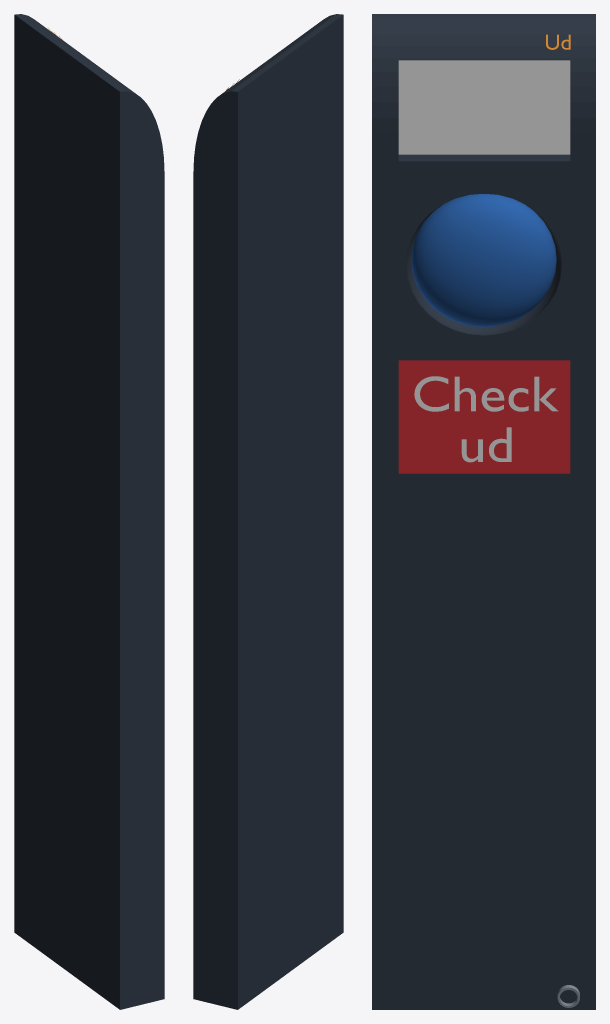
File: RejsekortStanderUD.fbx
The picture shows the model from 3 angles, left to right: view 1: azimuth 30°, elevation 25°; view 2: azimuth 150°, elevation 25°; view 3: azimuth 270°, elevation 25°; orthographic projection. The views are drawn at different scales.
Visible parts, largest first — view 1: Cube; view 2: Cube; view 3: Cube, Plane.001, Plane, Sphere, Text.
Boxes of the visible parts, left/top/right/bottom form: Cube: left=14, top=14, right=164, bottom=1009; Cube: left=193, top=14, right=343, bottom=1009; Cube: left=372, top=14, right=595, bottom=1009; Plane.001: left=398, top=360, right=570, bottom=473; Plane: left=398, top=60, right=570, bottom=154; Sphere: left=411, top=194, right=556, bottom=327; Text: left=414, top=376, right=558, bottom=462.
Size of the model in its own units: 68.77 by 959 by 200.
Materials: 6 (1 with a texture image).
